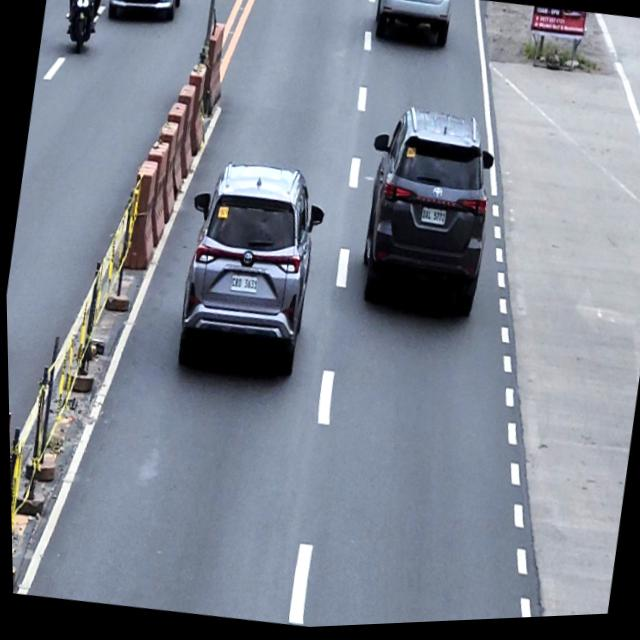Car: (166, 153, 333, 386), (347, 101, 504, 326), (371, 0, 455, 55), (106, 0, 187, 28)
License-Plate: (227, 274, 259, 299), (419, 210, 446, 231)
Motorcycle: (55, 0, 107, 57)
